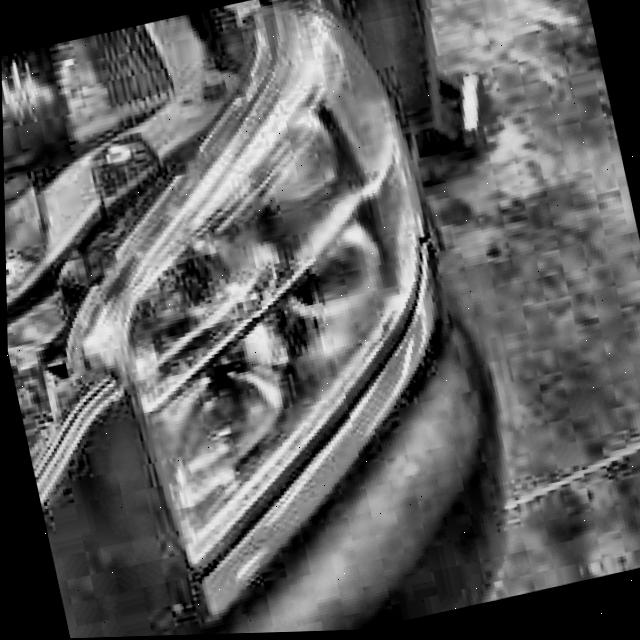head_lamp: (66, 116, 445, 454)
